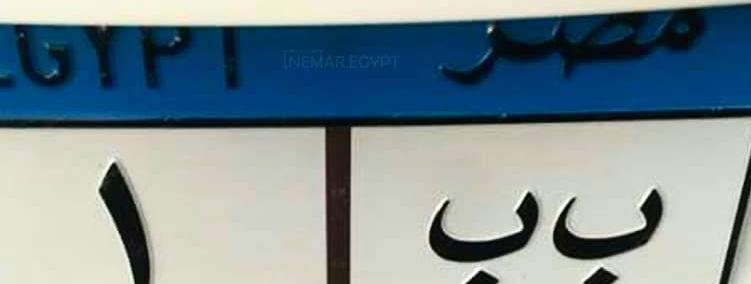1: (82, 152, 173, 284)
baa: (414, 181, 544, 284), (548, 178, 671, 284)
